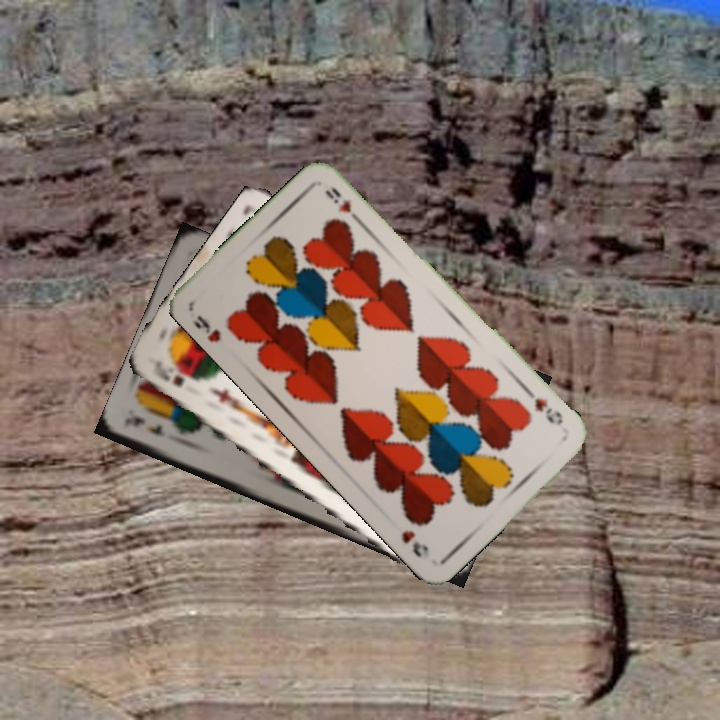EK: (127, 412, 168, 438)
H9: (530, 394, 566, 429), (188, 311, 224, 345)
SK: (149, 363, 201, 390)
